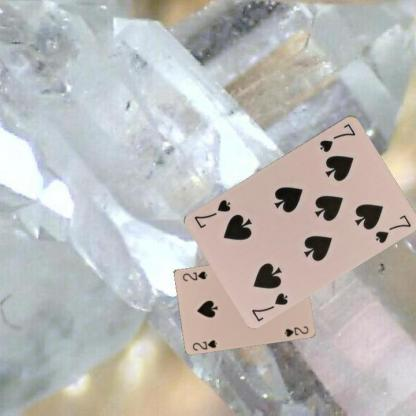2s: (190, 337, 218, 352)
7s: (317, 120, 357, 153), (249, 290, 289, 323)
